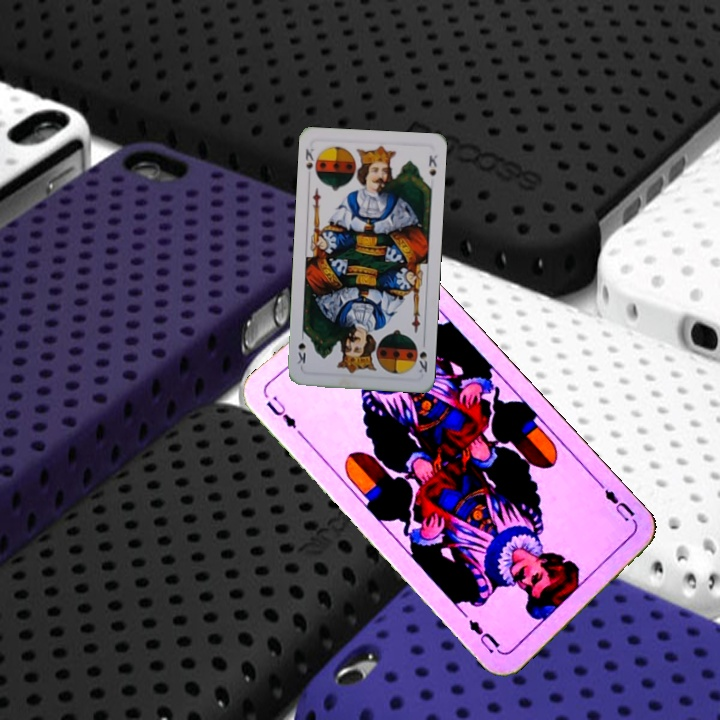EU: (596, 480, 641, 528), (262, 392, 299, 431)
SK: (415, 336, 430, 375), (301, 144, 316, 174)
